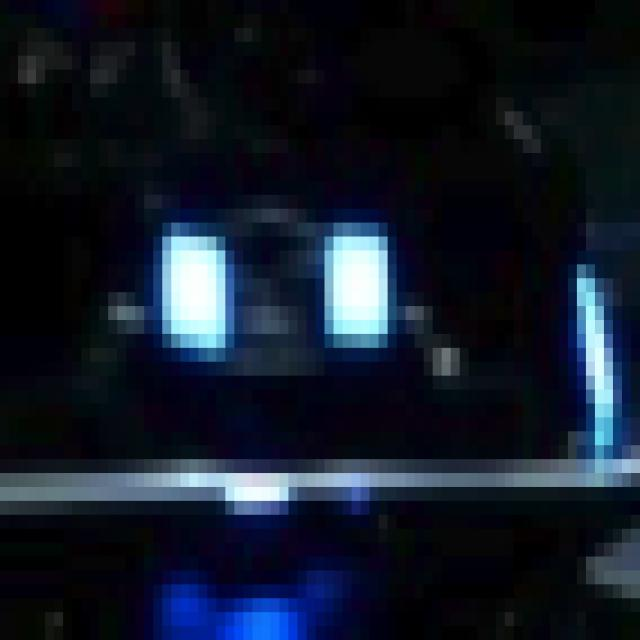Bs: (171, 208, 379, 404)
